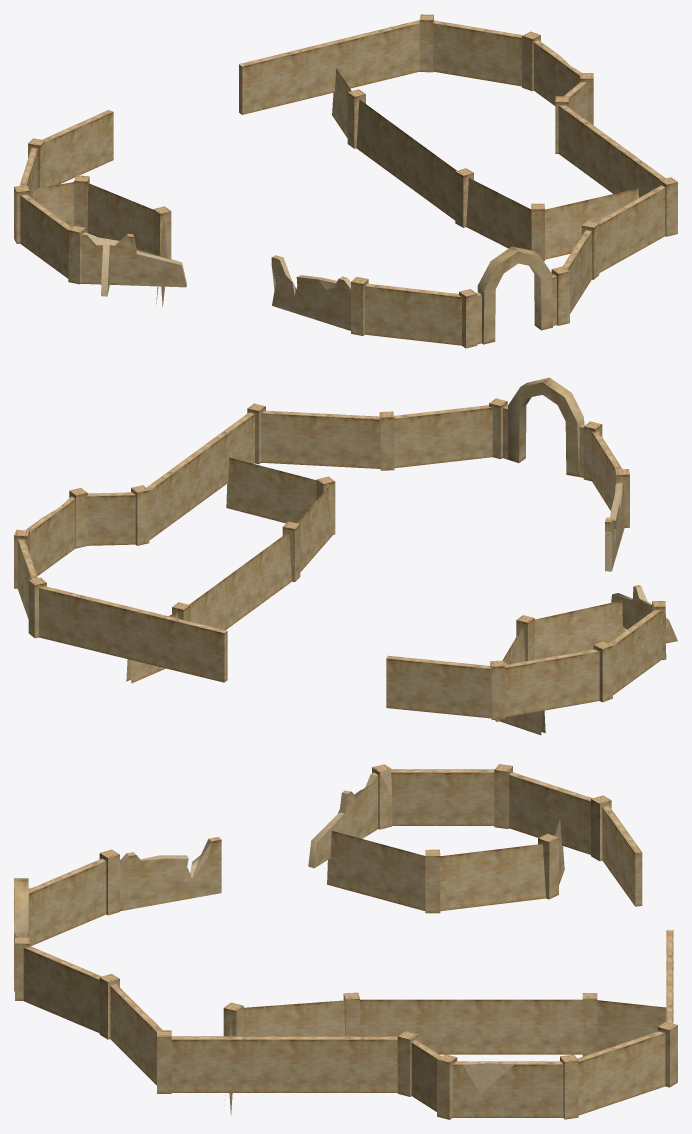
File: poi_tato_farm_64x64_s02_l1.fbx
3 renders of one model, top to bottom at view 1: azimuth 30°, elevation 25°; view 2: azimuth 150°, elevation 25°; view 3: azimuth 270°, elevation 25°, orthographic. The views are drawn at different scales.
Visible parts, largest first — view 1: mesh_node; view 2: mesh_node; view 3: mesh_node.
Part boxes in pixels (bbox=[...]): mesh_node: bbox=[14, 14, 677, 348]; mesh_node: bbox=[14, 377, 677, 735]; mesh_node: bbox=[14, 764, 677, 1119].
Bounding box in the file's own units: 47.95 × 9 × 45.03.
1 material, 1 textured.
